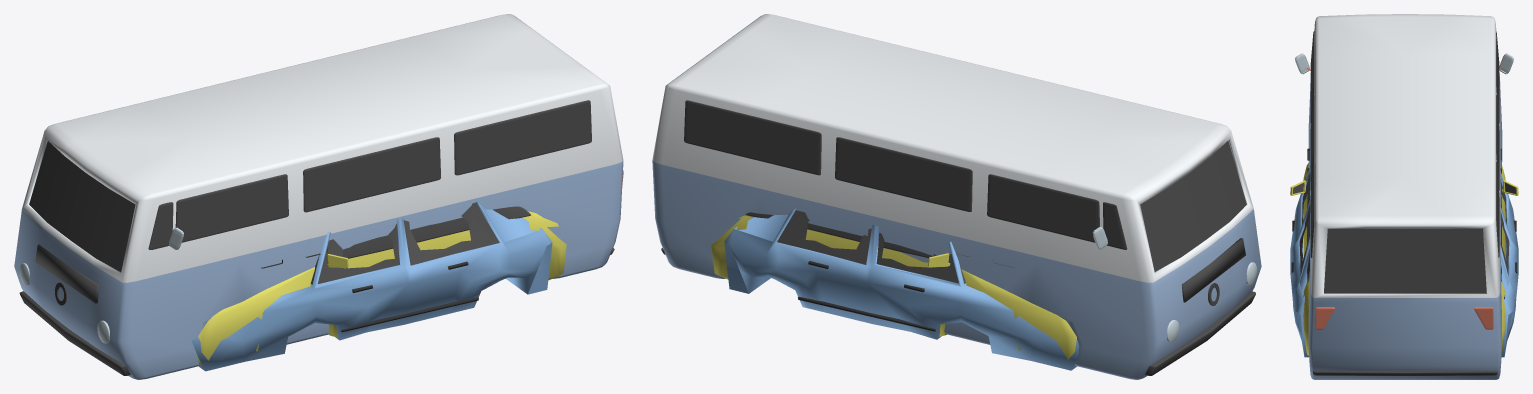
The model's file is cars .fbx.
The picture shows the model from 3 angles, left to right: view 1: azimuth 30°, elevation 25°; view 2: azimuth 150°, elevation 25°; view 3: azimuth 270°, elevation 25°; orthographic projection. The views are drawn at different scales.
Parts seen in each view (by area): view 1: bass, car_01, car_02; view 2: bass, car_01, car_02; view 3: bass, car_01, car_02.
Boxes of the visible parts, x1,y1,x2,y2 form: bass: (14, 14, 623, 379); car_01: (192, 202, 552, 371); car_02: (198, 206, 566, 365); bass: (652, 14, 1261, 379); car_01: (724, 208, 1078, 370); car_02: (711, 212, 1076, 359); bass: (1295, 14, 1513, 379); car_01: (1290, 165, 1518, 357); car_02: (1290, 163, 1518, 355).
Bounding box in the file's own units: 482 × 166 × 205.
